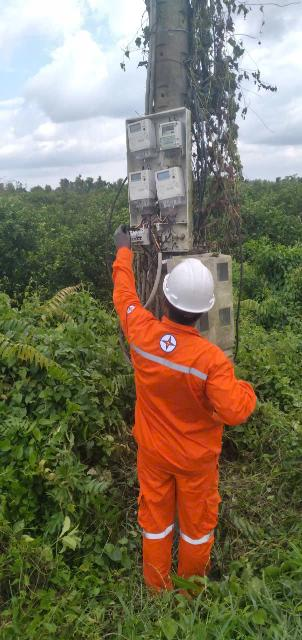gloves: (110, 223, 142, 263)
helmet: (157, 253, 226, 317)
